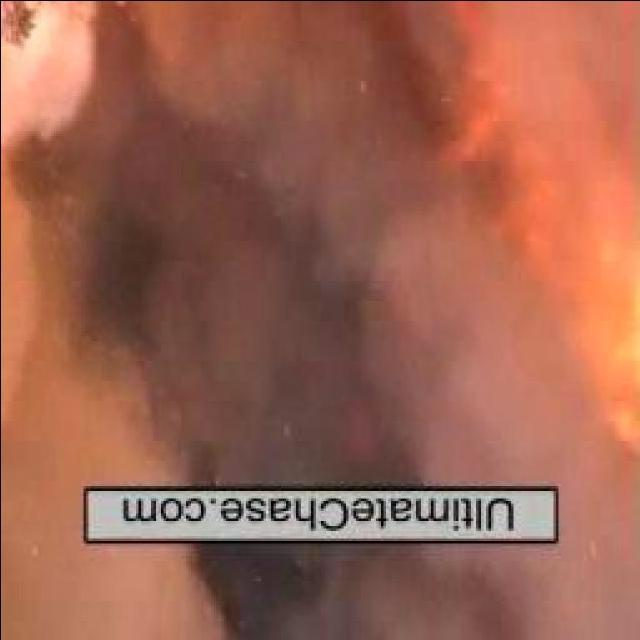Fire: (455, 3, 640, 458)
